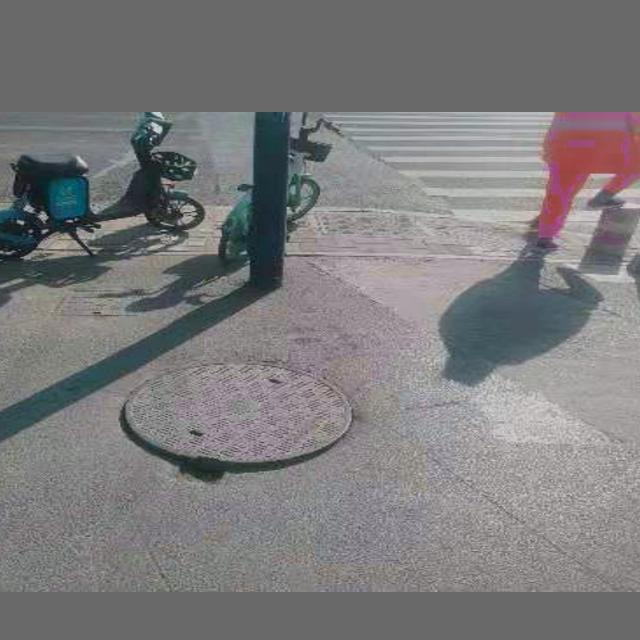uncovered: (117, 362, 354, 475)
